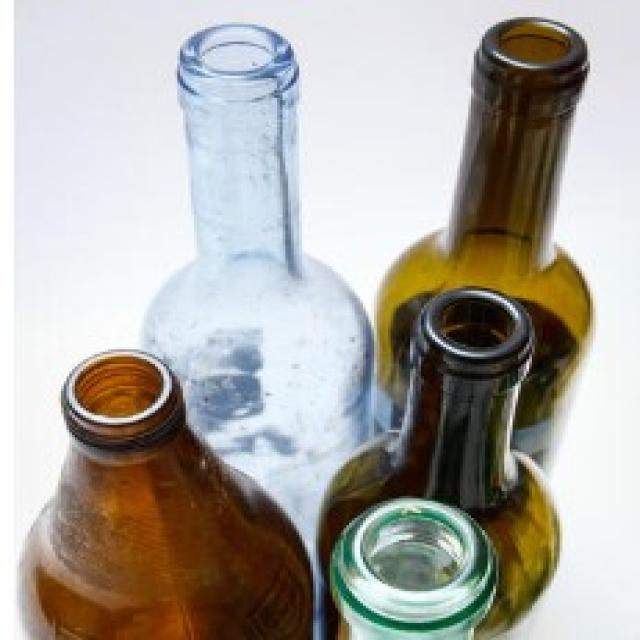electronic: (14, 14, 600, 640)
